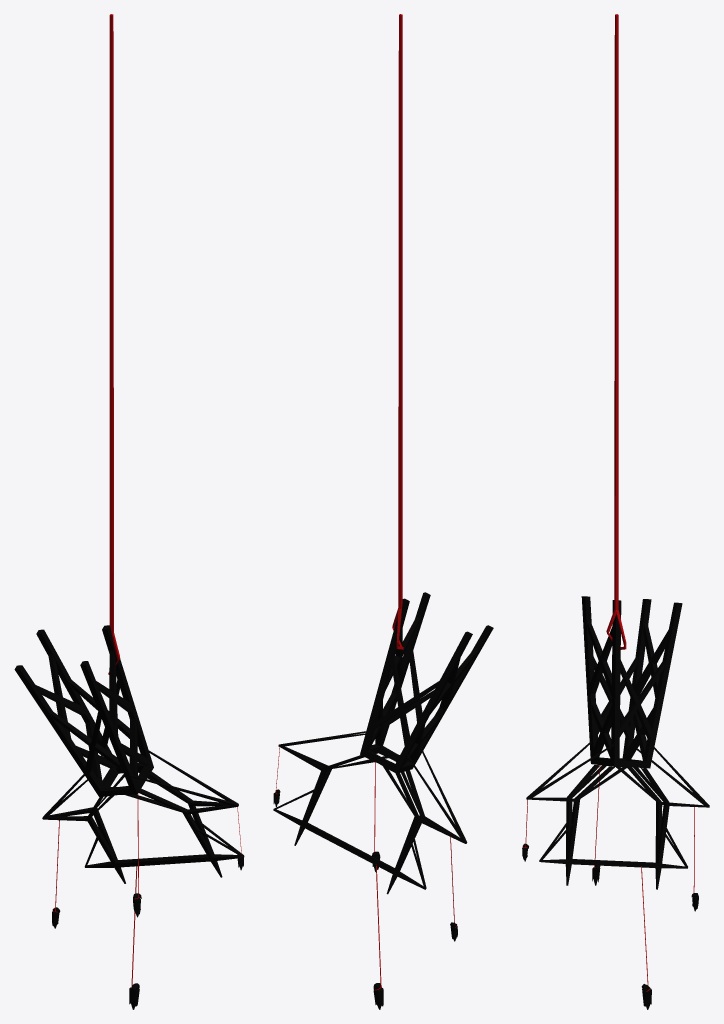
The model's file is powerplantbirds_red.glb.
3 renders of one model, left to right at view 1: azimuth 30°, elevation 25°; view 2: azimuth 210°, elevation 25°; view 3: azimuth 270°, elevation 25°, orthographic. The views are drawn at different scales.
Visible parts, largest first — view 1: powerplant.001, string; view 2: powerplant.001, string; view 3: powerplant.001, string.
Boxes of the visible parts, bbox=[...] form: powerplant.001: bbox=[14, 625, 244, 883]; string: bbox=[108, 14, 119, 674]; powerplant.001: bbox=[273, 592, 493, 894]; string: bbox=[392, 14, 403, 649]; powerplant.001: bbox=[526, 596, 709, 889]; string: bbox=[606, 14, 626, 649].
Size of the model in its own units: 14.15 by 78.94 by 13.74.
